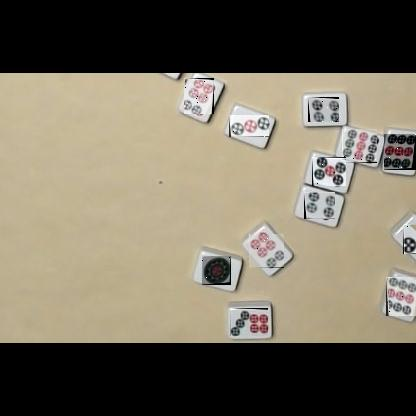1p: (202, 256, 231, 285)
2p: (403, 224, 416, 254)
3p: (229, 115, 269, 137)
4p: (304, 192, 335, 219), (308, 97, 339, 122)
5p: (312, 157, 346, 186)
6p: (249, 234, 284, 268), (184, 78, 214, 114)
7p: (230, 308, 268, 336)
9p: (342, 129, 377, 163), (386, 277, 416, 316), (384, 134, 416, 170)
